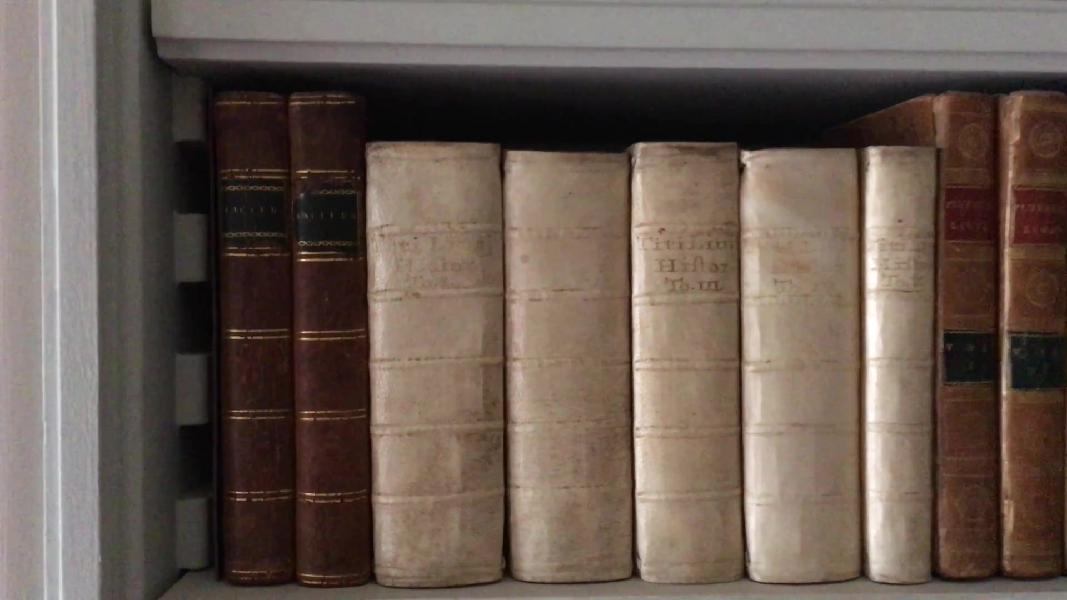Kk4-1_2: (213, 86, 370, 590)
Kk4-3_7: (369, 135, 936, 582)
